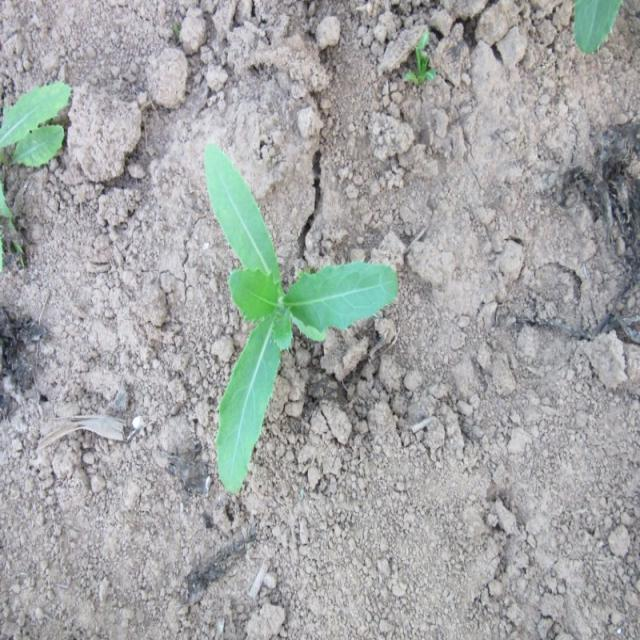cs: (204, 139, 401, 499)
